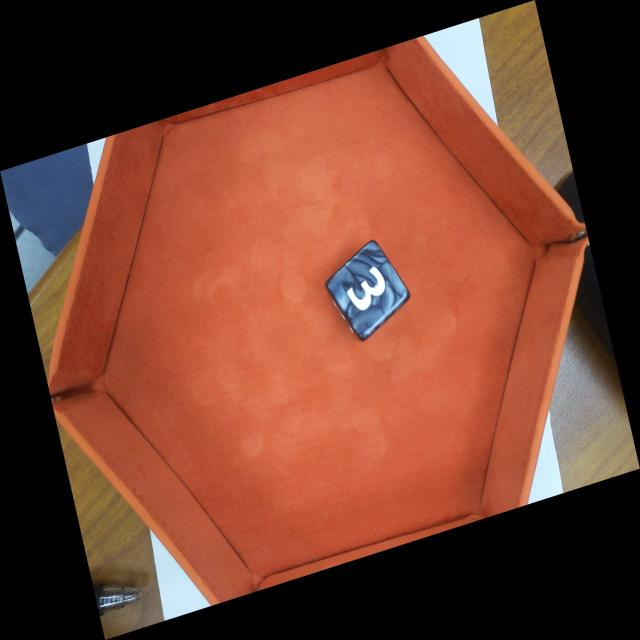dice: (323, 234, 414, 343)
